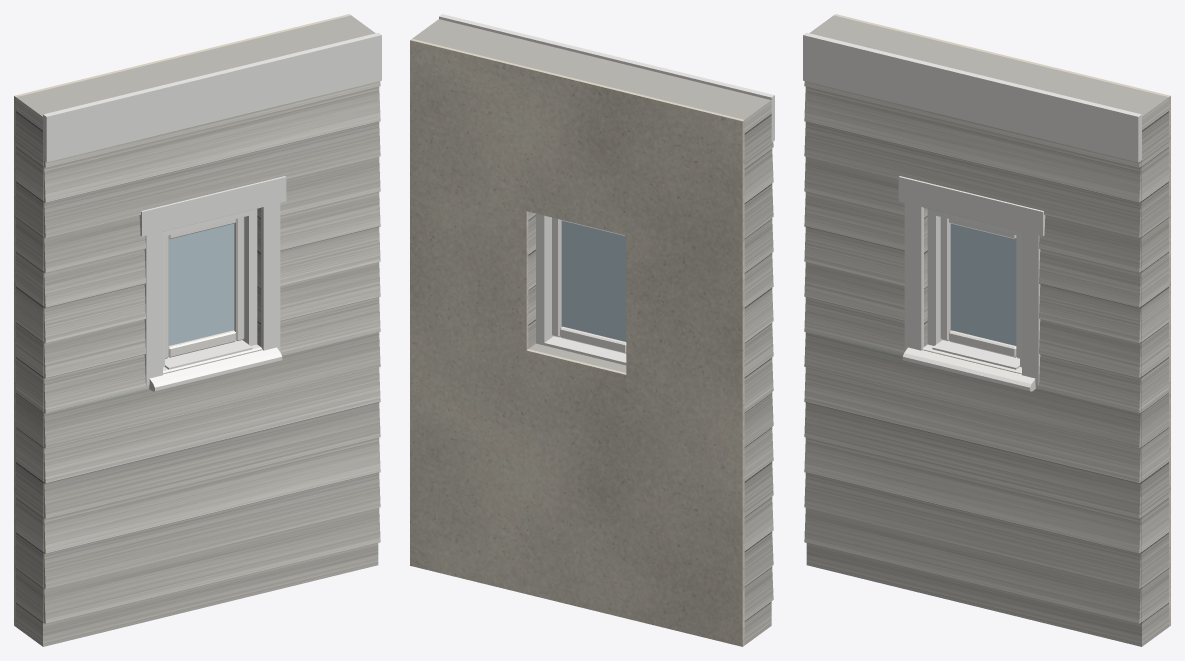
Rendered from wing_wall_small_window.glb.
The picture shows the model from 3 angles, left to right: view 1: azimuth 30°, elevation 25°; view 2: azimuth 150°, elevation 25°; view 3: azimuth 330°, elevation 25°; orthographic projection.
Parts seen in each view (by area): view 1: wing_wall_small_window_siding, wing_wall_small_window_trim, wing_wall_small_window_glass, wing_wall_small_window_sash, wing_wall_small_window_frame, wing_wall_small_window_plaster; view 2: wing_wall_small_window_plaster, wing_wall_small_window_siding, wing_wall_small_window_glass, wing_wall_small_window_trim, wing_wall_small_window_sash, wing_wall_small_window_frame; view 3: wing_wall_small_window_siding, wing_wall_small_window_trim, wing_wall_small_window_glass, wing_wall_small_window_sash, wing_wall_small_window_frame, wing_wall_small_window_plaster.
Boxes of the visible parts, x1,y1,x2,y2 form: wing_wall_small_window_siding: (16,15,380,646); wing_wall_small_window_trim: (43,32,381,391); wing_wall_small_window_glass: (168,223,234,345); wing_wall_small_window_sash: (165,217,244,358); wing_wall_small_window_frame: (163,209,257,367); wing_wall_small_window_plaster: (14,14,350,626); wing_wall_small_window_plaster: (410,39,744,646); wing_wall_small_window_siding: (412,19,773,644); wing_wall_small_window_glass: (561,220,626,341); wing_wall_small_window_trim: (439,14,774,365); wing_wall_small_window_sash: (552,217,626,353); wing_wall_small_window_frame: (536,213,553,345); wing_wall_small_window_siding: (804,15,1168,646); wing_wall_small_window_trim: (803,32,1141,391); wing_wall_small_window_glass: (950,223,1016,345); wing_wall_small_window_sash: (940,217,1019,358); wing_wall_small_window_frame: (927,209,1021,367); wing_wall_small_window_plaster: (834,14,1170,626).
Size of the model in its own units: 2 by 3.04 by 0.38.
6 materials, 2 textured.
